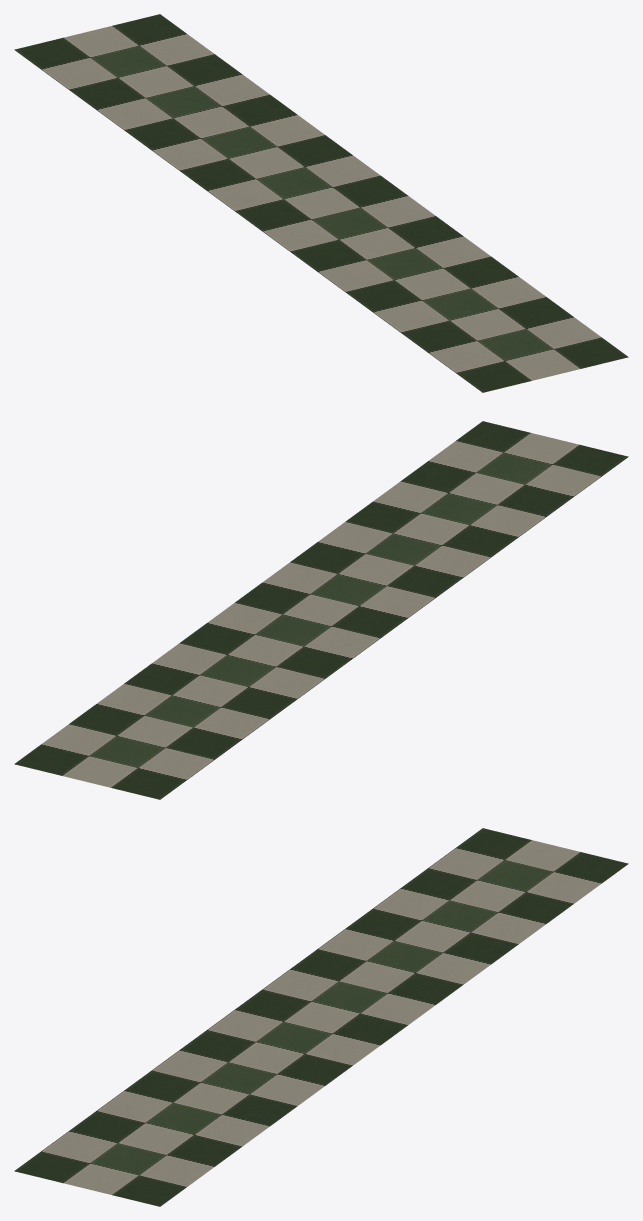
File: super_bell_subway_start.glb
3 views of the same model, one above another, from view 1: azimuth 30°, elevation 25°; view 2: azimuth 150°, elevation 25°; view 3: azimuth 330°, elevation 25° (orthographic).
Visible parts, largest first — view 1: Object_7; view 2: Object_7; view 3: Object_7.
Boxes of the visible parts, left/top/right/bottom form: Object_7: left=14, top=14, right=628, bottom=392; Object_7: left=14, top=421, right=628, bottom=799; Object_7: left=14, top=828, right=628, bottom=1206.
Bounding box in the file's own units: 1.14 × 5.96e-06 × 6.35.
Materials: 1 (1 with a texture image).
